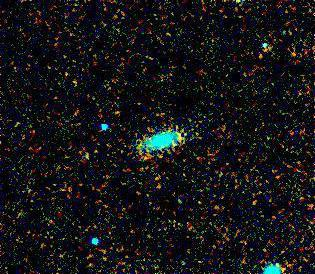star: (168, 125, 198, 155)
